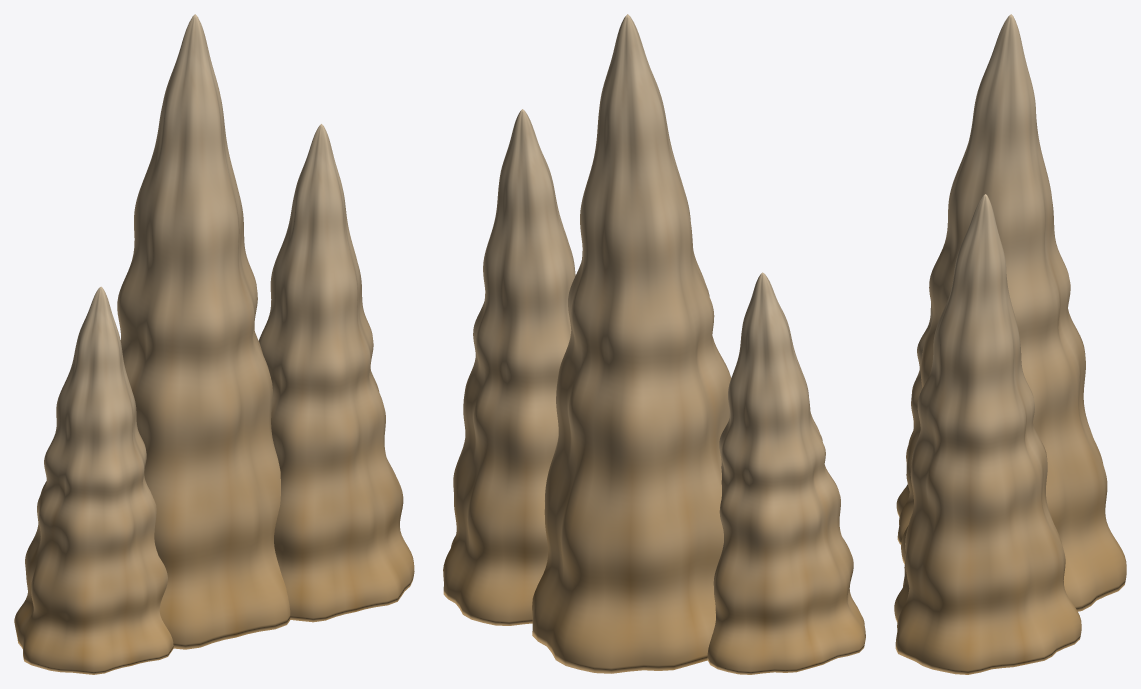
Rendered from stalagmite-3.glb.
3 views of the same model, side by side, from view 1: azimuth 30°, elevation 25°; view 2: azimuth 150°, elevation 25°; view 3: azimuth 270°, elevation 25° (orthographic). The views are drawn at different scales.
Visible parts, largest first — view 1: Stalagmite 1, Stalagmite 3, Stalagmite 2; view 2: Stalagmite 1, Stalagmite 3, Stalagmite 2; view 3: Stalagmite 3, Stalagmite 1, Stalagmite 2.
Boxes of the visible parts, x1=… form: Stalagmite 1: x1=117, y1=14, x2=290, y2=649; Stalagmite 3: x1=259, y1=124, x2=414, y2=622; Stalagmite 2: x1=14, y1=286, x2=173, y2=674; Stalagmite 1: x1=532, y1=14, x2=731, y2=673; Stalagmite 3: x1=443, y1=109, x2=575, y2=625; Stalagmite 2: x1=707, y1=272, x2=865, y2=674; Stalagmite 3: x1=894, y1=194, x2=1081, y2=674; Stalagmite 1: x1=901, y1=14, x2=1126, y2=611; Stalagmite 2: x1=896, y1=303, x2=932, y2=544.
Size of the model in its own units: 0.6952 by 1 by 0.3692.
